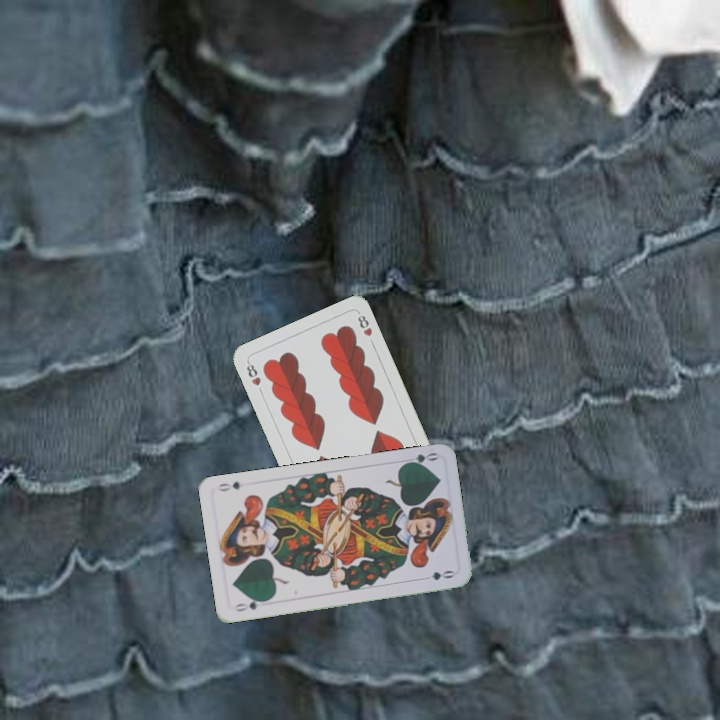GO: (399, 448, 440, 468), (230, 595, 270, 614)
H8: (242, 358, 263, 389)
